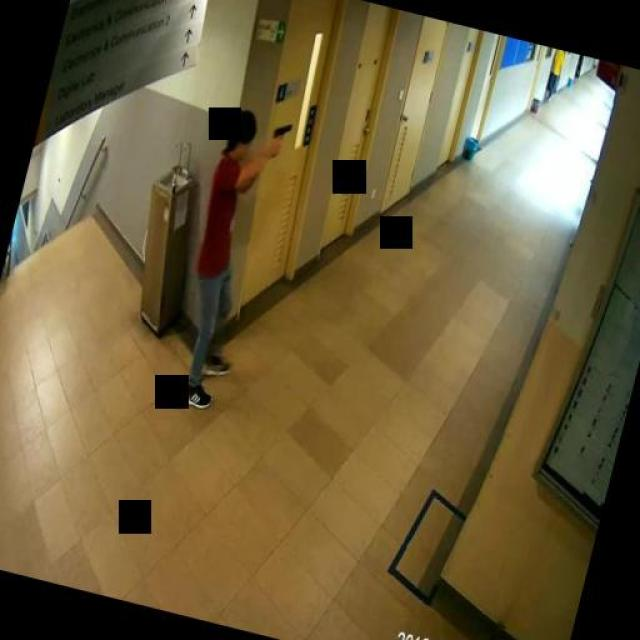gun: (263, 115, 295, 160)
